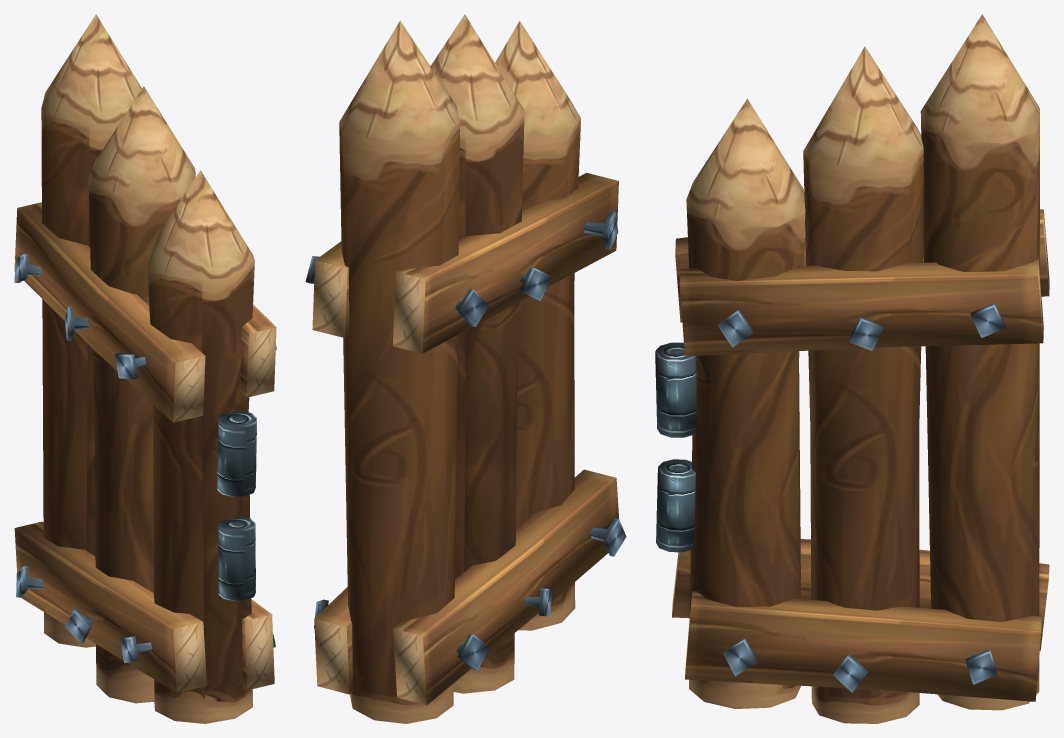
Rendered from gates_left_01.fbx.
The picture shows the model from 3 angles, left to right: view 1: azimuth 30°, elevation 25°; view 2: azimuth 150°, elevation 25°; view 3: azimuth 270°, elevation 25°; orthographic projection. The views are drawn at different scales.
Visible parts, largest first — view 1: gates_left_01; view 2: gates_left_01; view 3: gates_left_01.
Part boxes in pixels (<box>): gates_left_01: <box>14,14,276,723</box>; gates_left_01: <box>305,14,626,723</box>; gates_left_01: <box>655,14,1049,723</box>.
Size of the model in its own units: 2.57 by 9.57 by 4.93.
